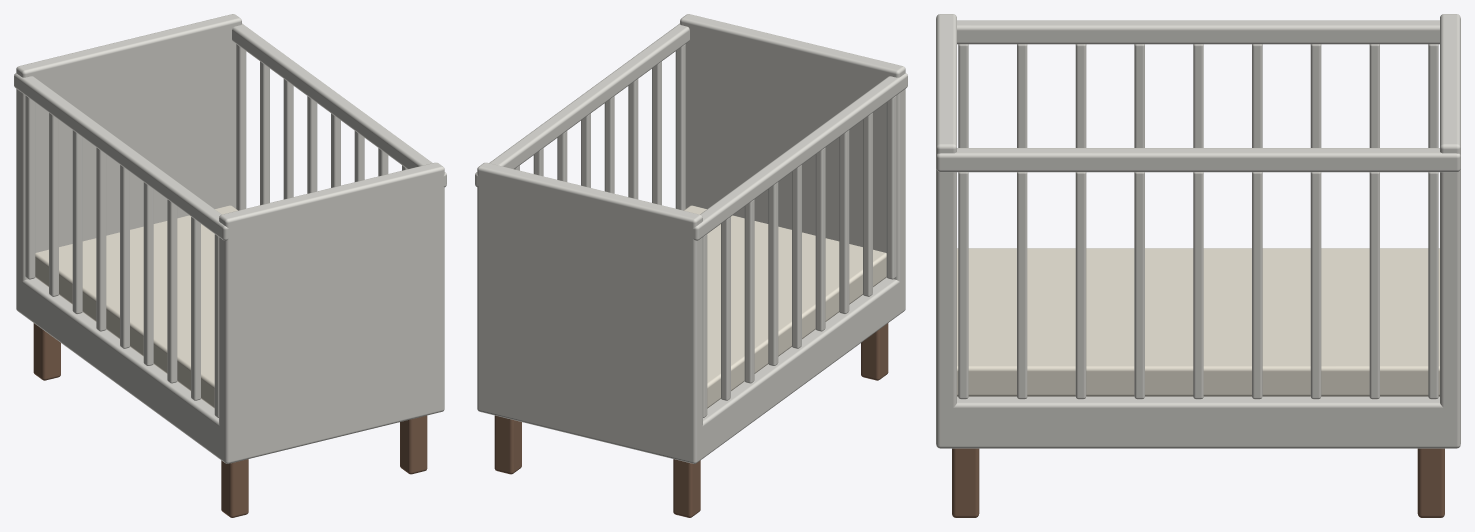
The model's file is paranormal-investigation-house-crib-6aab4d68__26715.glb.
The picture shows the model from 3 angles, left to right: view 1: azimuth 30°, elevation 25°; view 2: azimuth 150°, elevation 25°; view 3: azimuth 270°, elevation 25°; orthographic projection. The views are drawn at different scales.
Visible parts, largest first — view 1: crib; view 2: crib; view 3: crib.
Boxes of the visible parts, bbox=[...] form: crib: bbox=[14, 14, 446, 517]; crib: bbox=[475, 14, 907, 517]; crib: bbox=[936, 14, 1460, 517].
Size of the model in its own units: 0.765 by 1 by 1.25.
